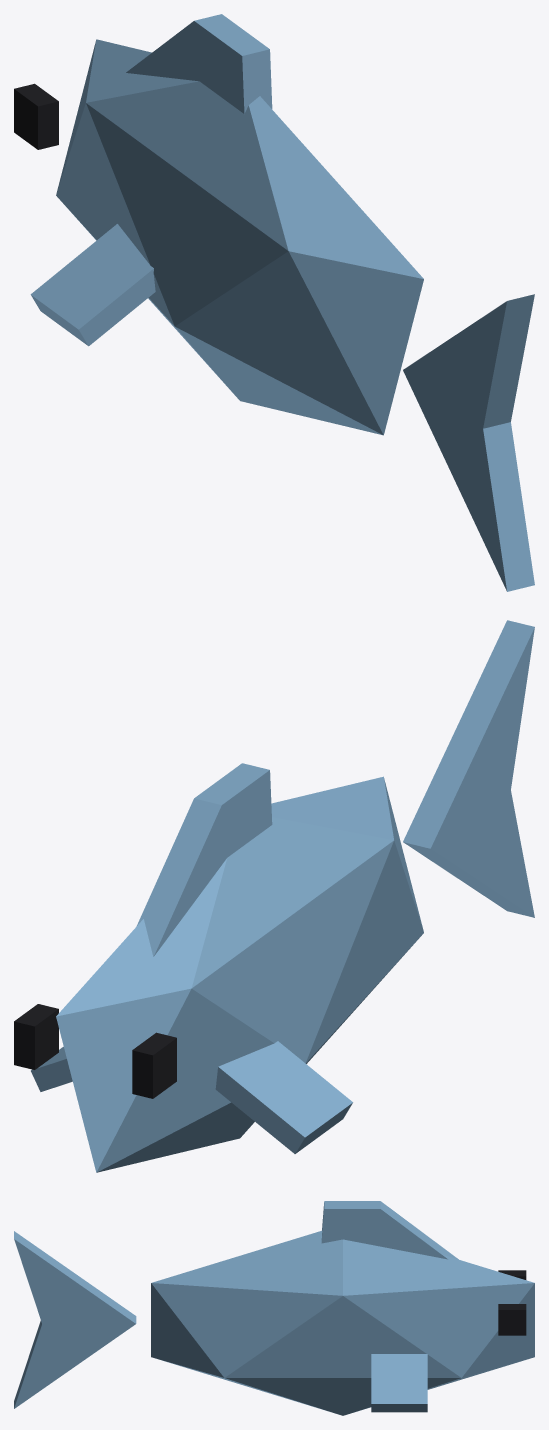
Rendered from ani_fish.glb.
3 renders of one model, top to bottom at view 1: azimuth 30°, elevation 25°; view 2: azimuth 150°, elevation 25°; view 3: azimuth 270°, elevation 25°, orthographic. The views are drawn at different scales.
Parts seen in each view (by area): view 1: ani_fish, ani_fish_tail; view 2: ani_fish, ani_fish_tail; view 3: ani_fish, ani_fish_tail.
Boxes of the visible parts, left/top/right/bottom form: ani_fish: left=14, top=14, right=423, bottom=435; ani_fish_tail: left=403, top=294, right=534, bottom=591; ani_fish: left=14, top=763, right=423, bottom=1172; ani_fish_tail: left=403, top=620, right=534, bottom=917; ani_fish: left=151, top=1201, right=534, bottom=1415; ani_fish_tail: left=14, top=1231, right=136, bottom=1408.
Size of the model in its own units: 0.1974 by 0.2475 by 0.5542.
